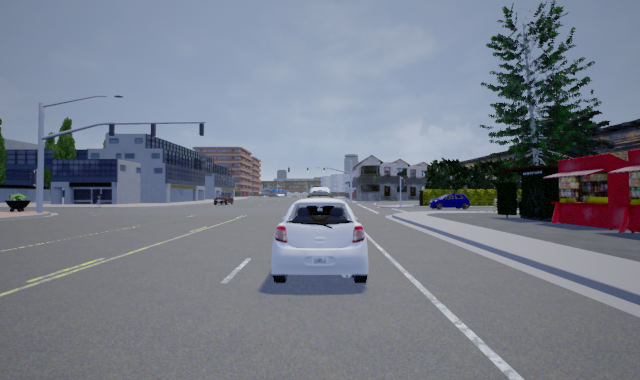vehicle: (269, 198, 368, 284), (306, 187, 333, 213), (430, 194, 471, 210), (213, 192, 234, 206)
